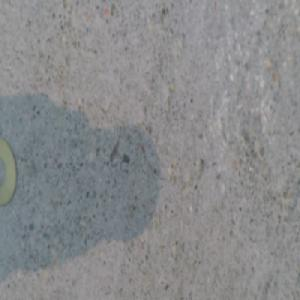Washer: (0, 139, 22, 204)
